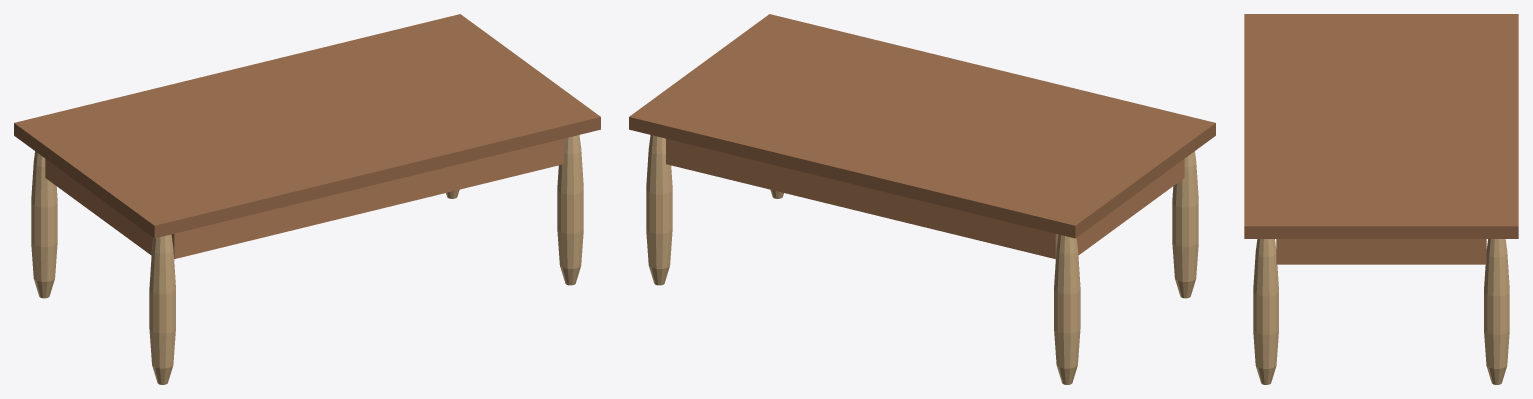
Rendered from CAL-COF-std.glb.
3 renders of one model, left to right at view 1: azimuth 30°, elevation 25°; view 2: azimuth 150°, elevation 25°; view 3: azimuth 270°, elevation 25°, orthographic. The views are drawn at different scales.
Parts seen in each view (by area): view 1: top:pbr, apron-f:pbr, leg-fl:pbr, leg-fr:pbr, leg-bl:pbr, apron-l:pbr; view 2: top:pbr, apron-b:pbr, leg-bl:pbr, leg-br:pbr, leg-fl:pbr, apron-l:pbr; view 3: top:pbr, apron-r:pbr, leg-fr:pbr, leg-br:pbr.
Part boxes in pixels (x1,y1,x2,y2): top:pbr: (14,14,600,238); apron-f:pbr: (171,138,563,258); leg-fl:pbr: (149,234,175,384); leg-fr:pbr: (557,135,583,285); leg-bl:pbr: (31,151,57,298); apron-l:pbr: (45,159,153,255); top:pbr: (629,14,1215,238); apron-b:pbr: (666,138,1058,258); leg-bl:pbr: (1054,234,1080,384); leg-br:pbr: (646,135,672,285); leg-fl:pbr: (1172,151,1198,298); apron-l:pbr: (1076,159,1184,255); top:pbr: (1244,14,1518,238); apron-r:pbr: (1276,239,1486,264); leg-fr:pbr: (1253,239,1278,384); leg-br:pbr: (1484,239,1509,384).
Bounding box in the file's own units: 1.1 × 0.4 × 0.6.
